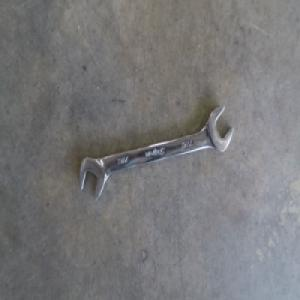Wrench: (80, 105, 233, 201)
